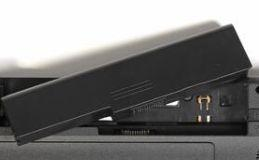battery: (0, 21, 254, 159)
